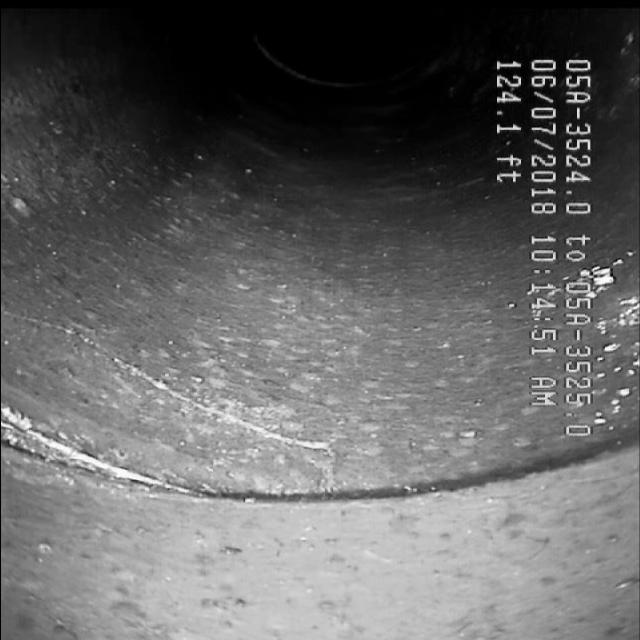Crack: (34, 305, 392, 496)
